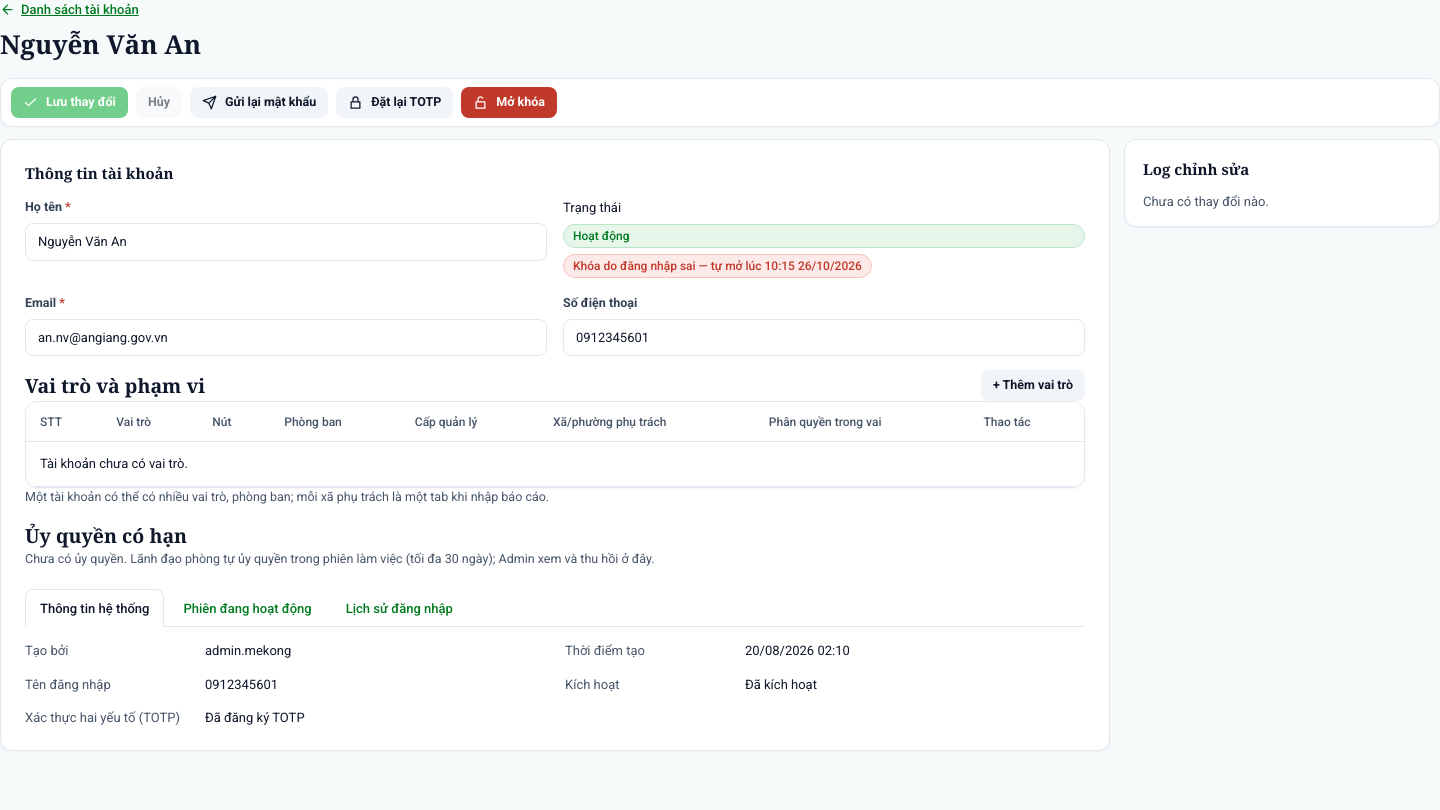
Scenario: ADMIN-UNLOCK-WEB — chi tiết tài khoản KN › enabled=true + login_locked=true → nhãn khóa đăng nhập sai có giờ tự mở; Mở khóa gọi /unlock rồi làm mới
The image size is (1440, 810).
Expected: the text "Hoạt động" is shown, [563, 224, 1085, 248]
Expected: the button "Khóa tài khoản" is not shown
Click the button "Mở khóa" at (509, 102), box [461, 87, 557, 118]
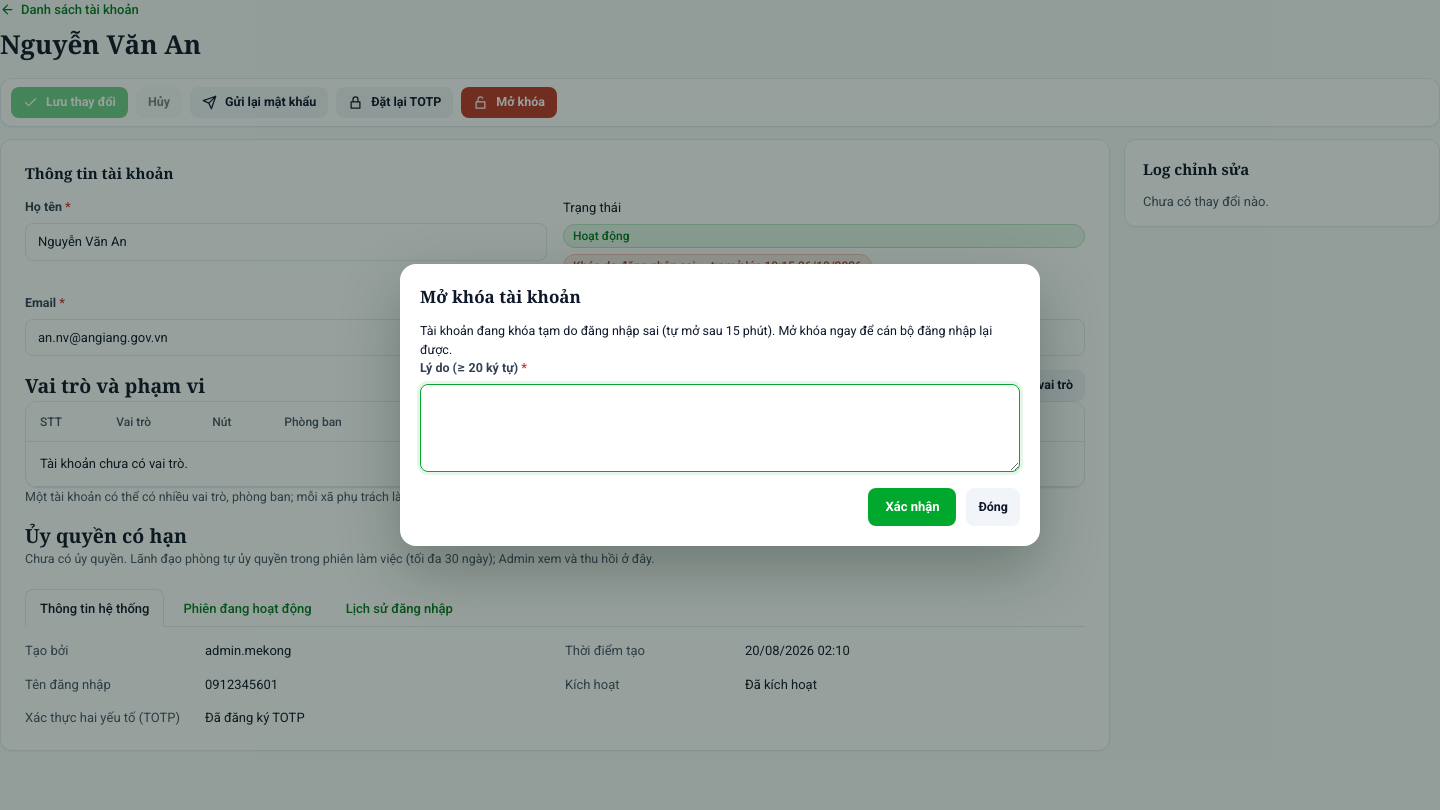
Type "ngắn" into the text box labelled "Lý do (≥ 20 ký tự) *" at (720, 428), box [420, 384, 1020, 472]
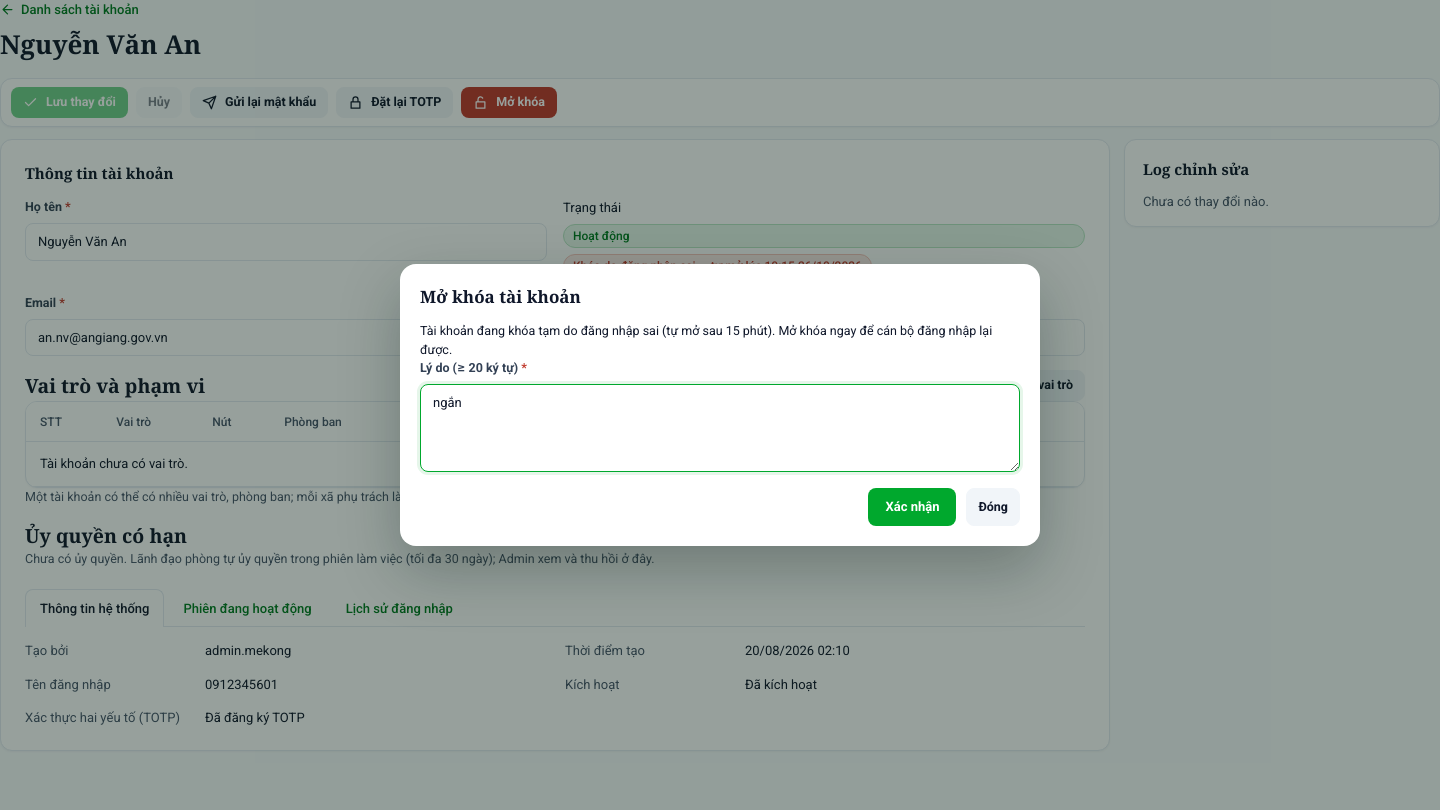
Click the button "Xác nhận" at (912, 507), box [868, 488, 956, 526]
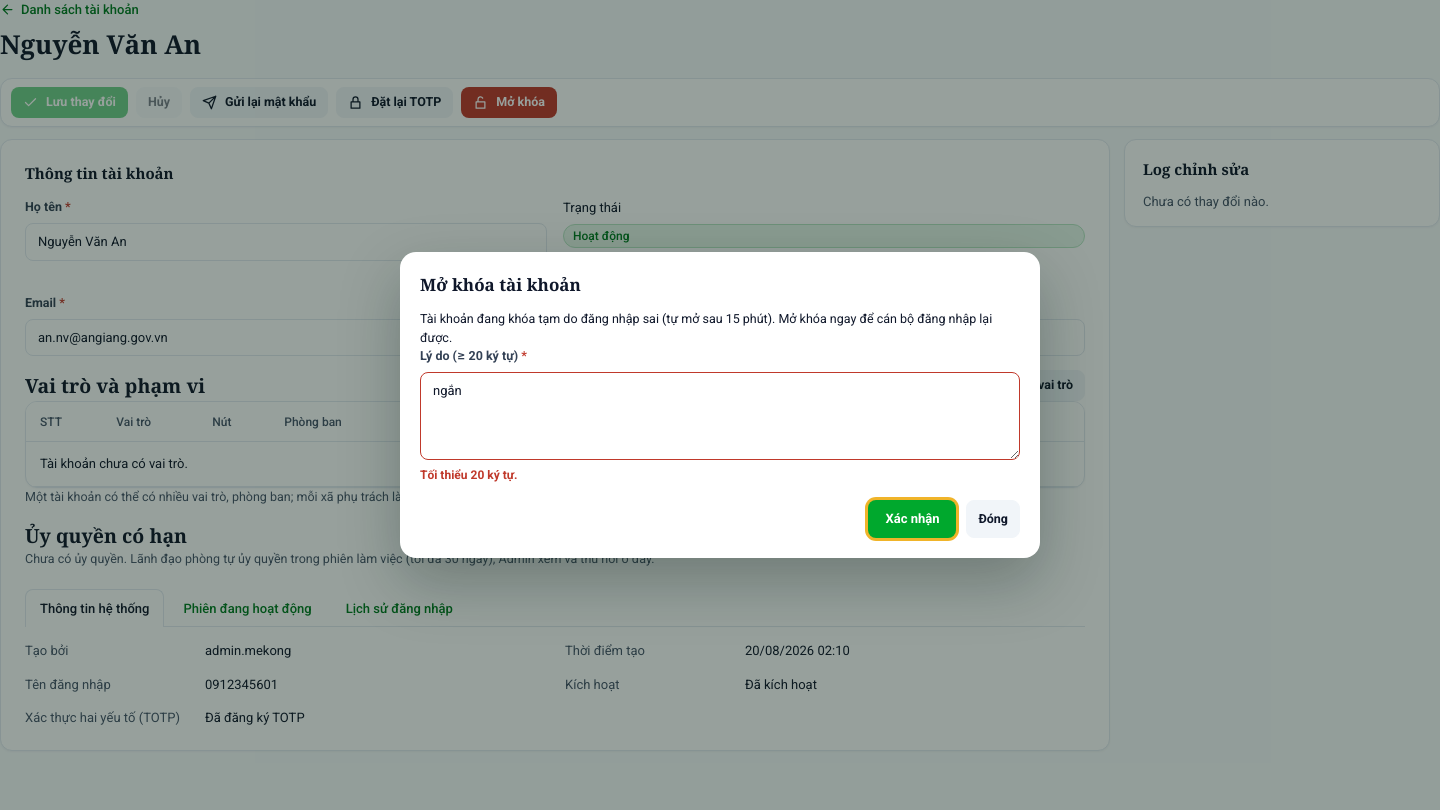
Expected: the text "Tối thiểu 20 ký tự." is shown, [420, 468, 518, 482]
Replace the text in the text box labelled "Lý do (≥ 20 ký tự) *" with "Cán bộ gọi điện xác minh danh tính, mở khóa cho đăng nhập lại" at (720, 416), box [420, 372, 1020, 460]
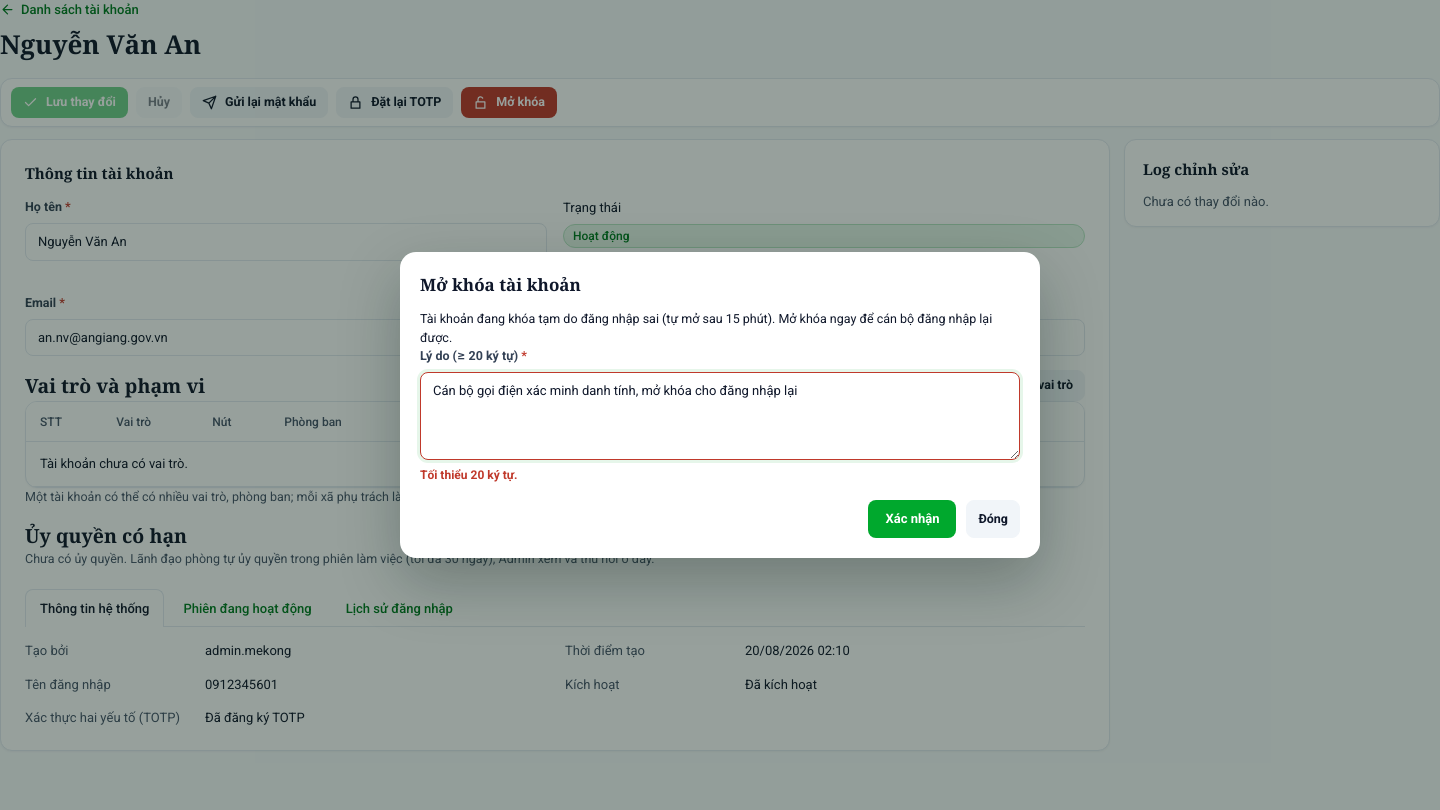
Click the button "Xác nhận" at (912, 519), box [868, 500, 956, 538]
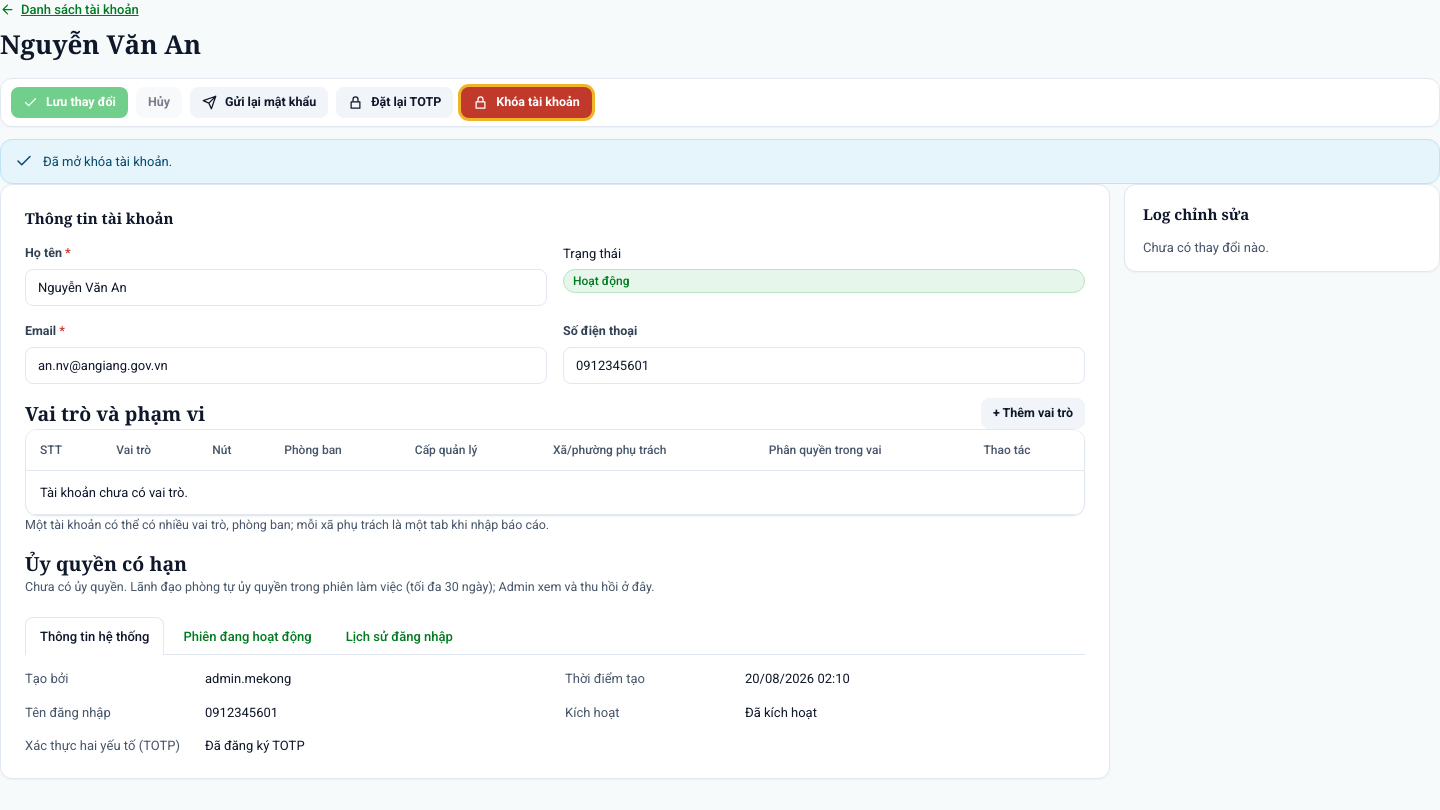
Expected: the message reads "Đã mở khóa tài khoản.", [43, 154, 172, 169]
Expected: the element with test id "login-lock" is gone
Expected: the button "Khóa tài khoản" is shown, [461, 87, 592, 118]
